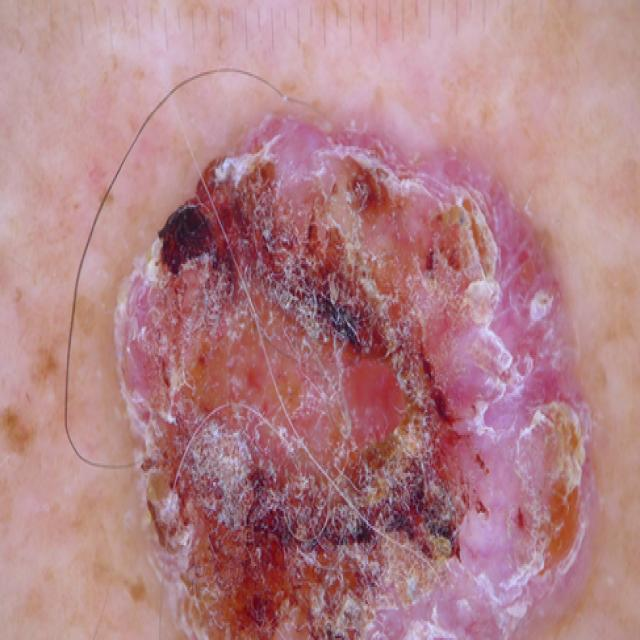Carcinoma: (72, 85, 619, 640)
